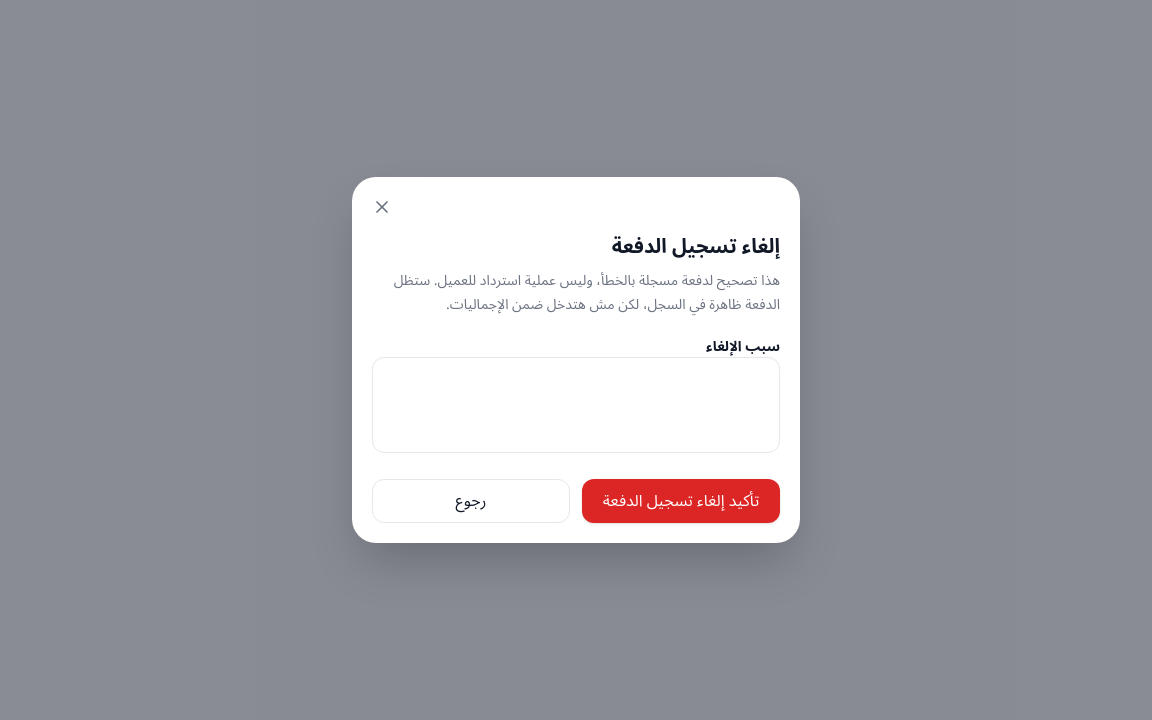
Test: CancelTransactionSheet › uses AppSheet dismissal and protects a typed reason
Expected: the dialog "إلغاء تسجيل الدفعة" is shown, [352,177,800,543]
In the text box labelled "سبب الإلغاء": (576, 405) [372,357,780,453], type "مبلغ خاطئ"
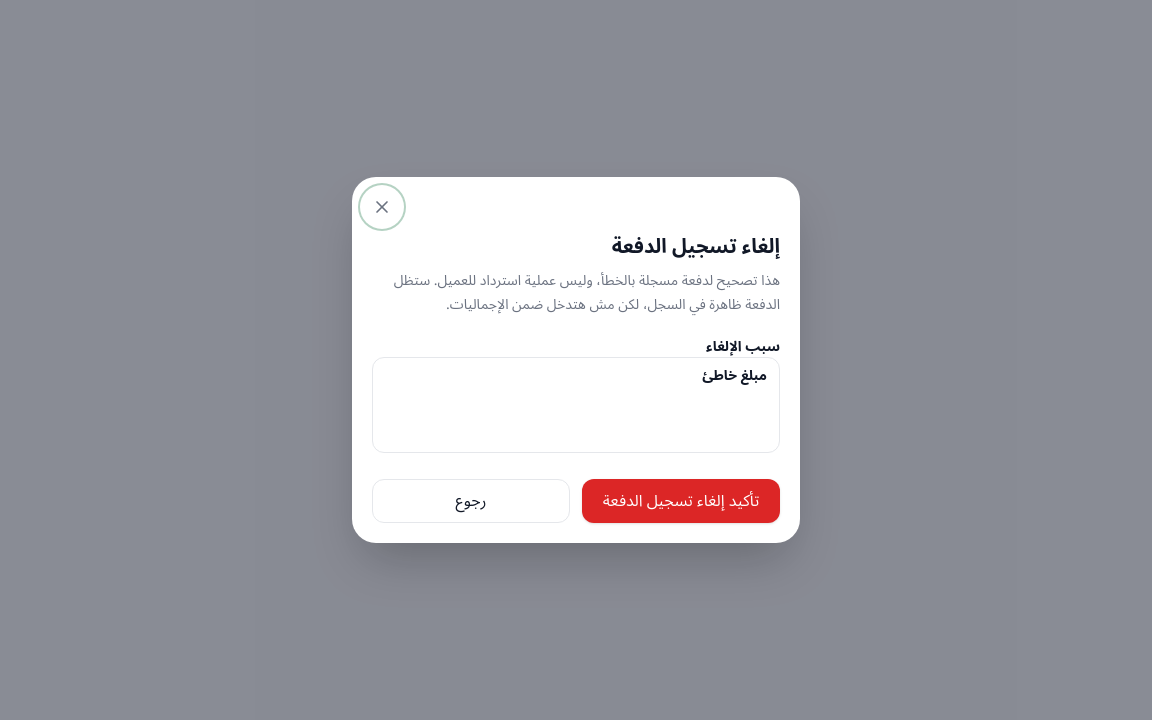
Click the button named "إغلاق": (382, 207) [360,185,404,229]
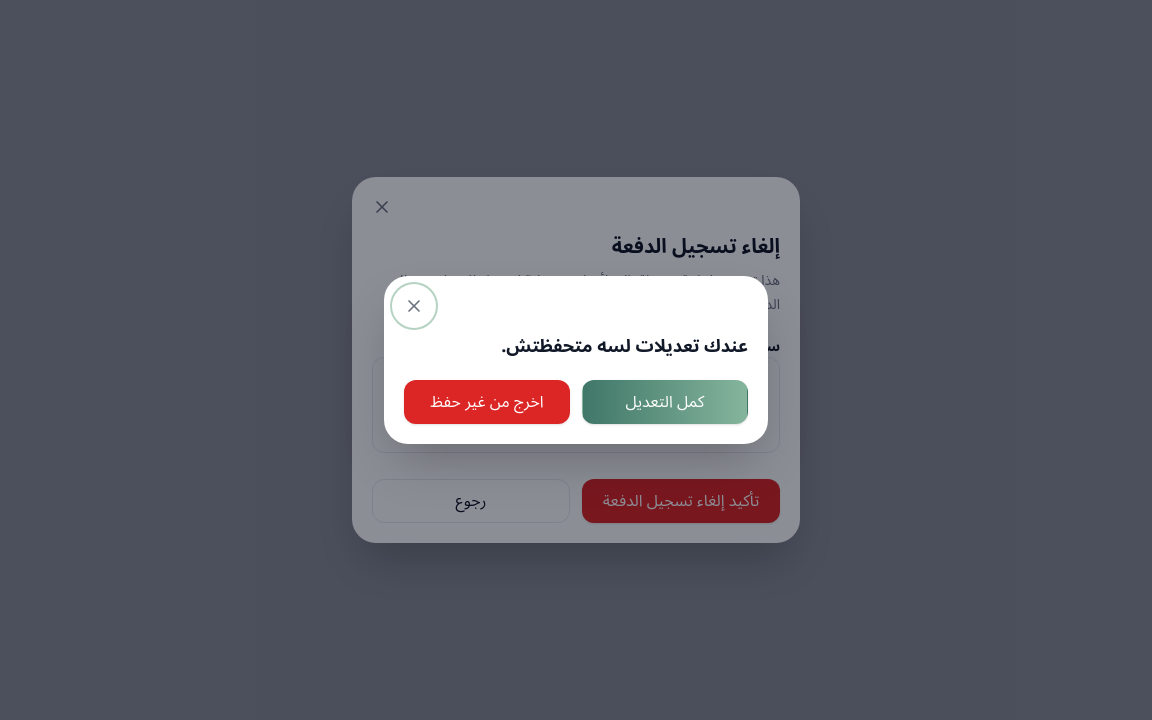
Expected: the text "عندك تعديلات لسه متحفظتش." is shown, [501,327,748,365]
